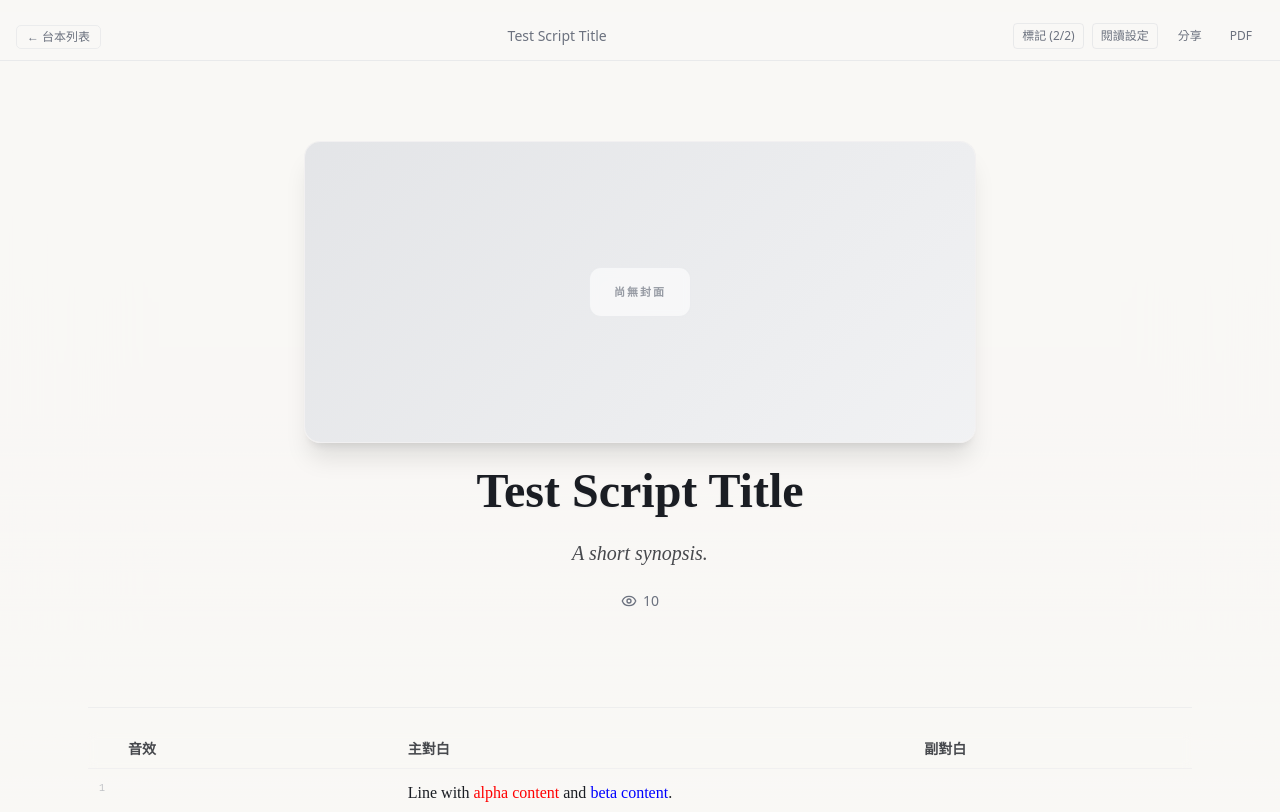
ScriptReaderClient — Next host assembly › marker toggle via shared toolbar hides content in renderer
This screenshot has width=1280, height=812.
# Open the shared MarkerVisibilityMenu
Step 1. Click the button "標記 (2/2)" → [1048, 36], box [1013,23,1084,49]
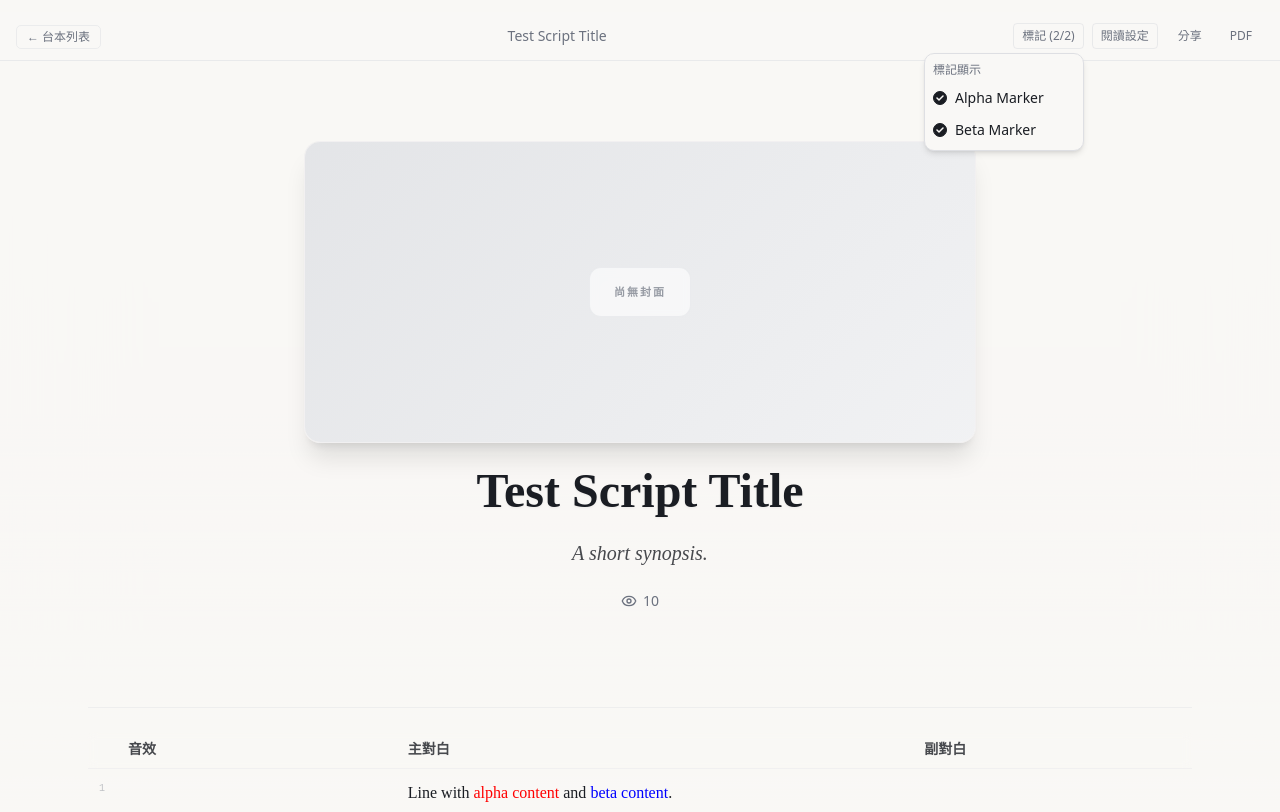
Check: the text "Alpha Marker" is shown, box [955,88,1044,108]
# Toggle alpha off
Step 2. Click the menu item "Alpha Marker" → [988, 98], box [933,88,1044,107]
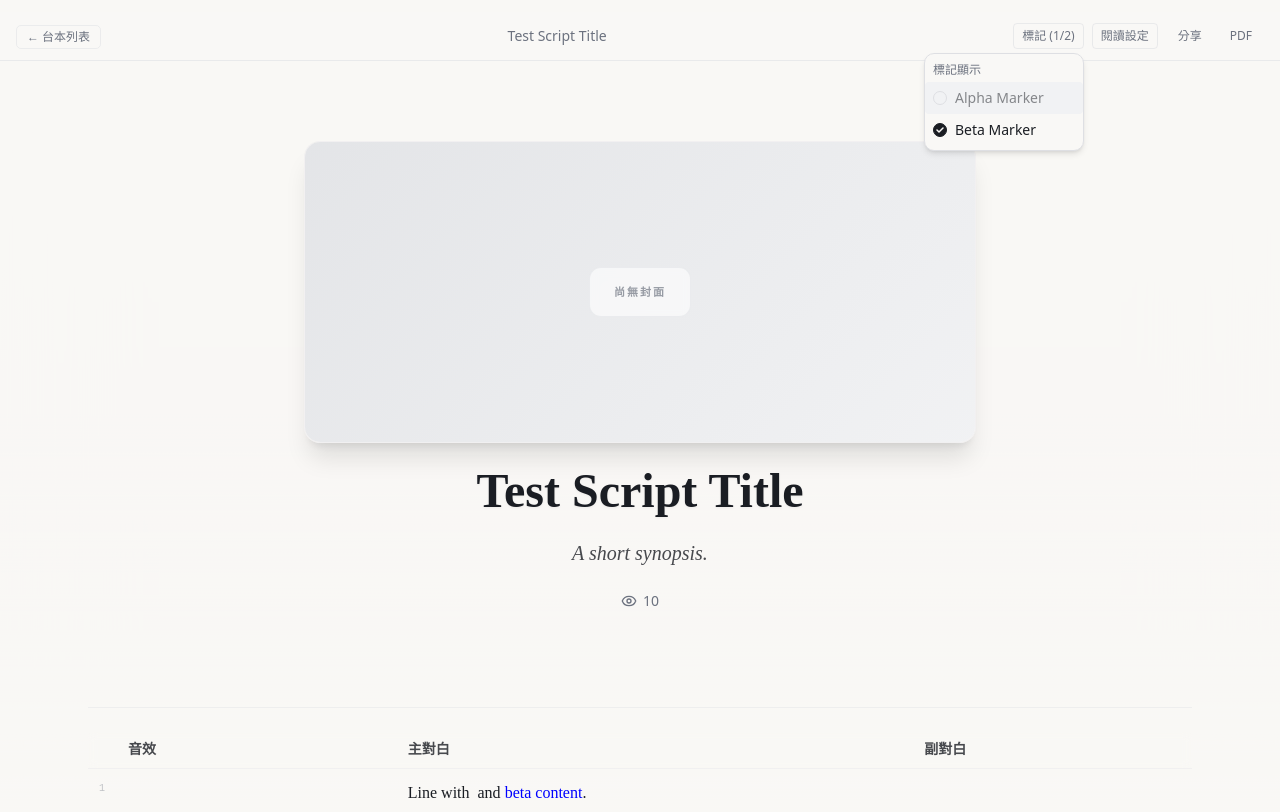
Check: the text "beta content" is shown, box [505,784,582,801]
Check: the text "alpha content" is gone
Check: the button "標記 (1/2)" is shown, box [1013,23,1084,49]
